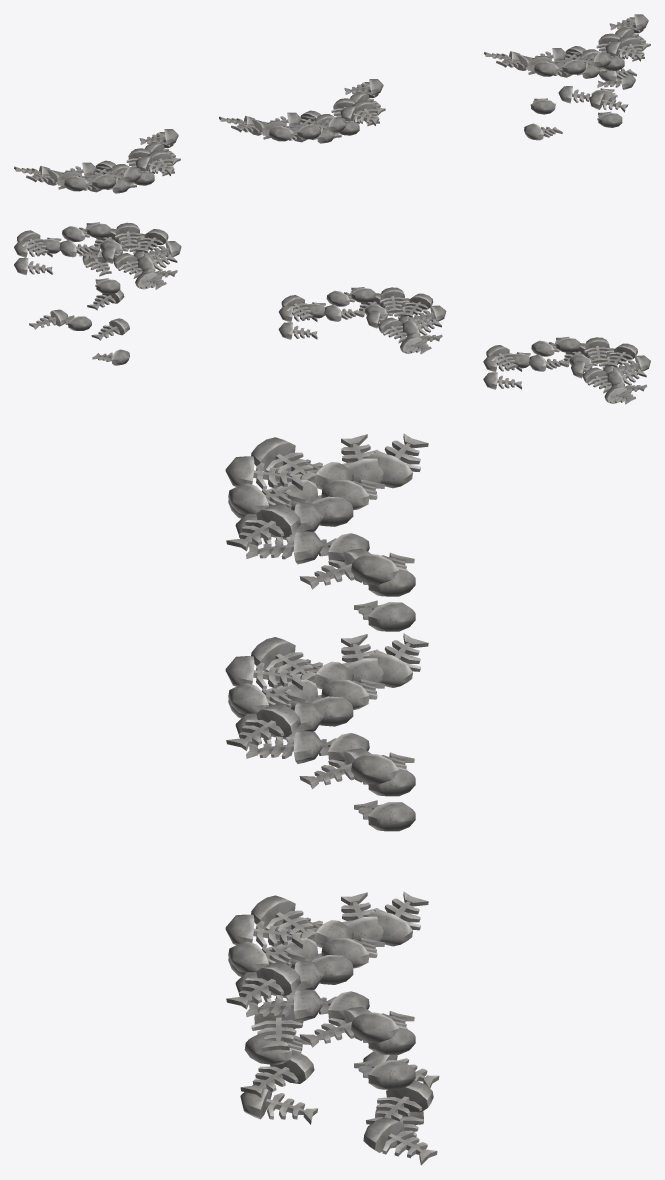
File: groupe_poisson_sur_cuve.fbx
The picture shows the model from 3 angles, top to bottom: view 1: azimuth 30°, elevation 25°; view 2: azimuth 150°, elevation 25°; view 3: azimuth 270°, elevation 25°; orthographic projection. The views are drawn at different scales.
Visible parts, largest first — view 1: fishs.044, fishs.036, fishs.043; view 2: fishs.044, fishs.036, fishs.043; view 3: fishs.044, fishs.043, fishs.036.
Boxes of the visible parts, left/top/right/bottom form: fishs.044: left=484, top=14, right=650, bottom=140; fishs.036: left=219, top=79, right=385, bottom=143; fishs.043: left=14, top=129, right=180, bottom=193; fishs.044: left=14, top=222, right=181, bottom=365; fishs.036: left=278, top=287, right=446, bottom=354; fishs.043: left=483, top=337, right=650, bottom=404; fishs.044: left=225, top=892, right=439, bottom=1165; fishs.043: left=225, top=433, right=428, bottom=631; fishs.036: left=225, top=633, right=428, bottom=831.
Size of the model in its own units: 1056 by 171 by 157.
